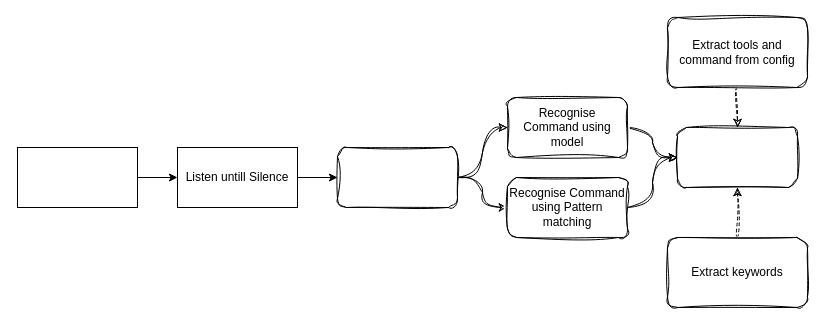
Some shapes in this 825 by 325 pixel diagram are drawn without their labels. The shapes that lost their labels are listed below. From the top down, each one's centre as x and y in pixels, then its label:
the point at 77,177: Wakeword heard (Trigger)
the point at 397,177: Parse Voice using Recognition model
the point at 737,157: Execute using shell
